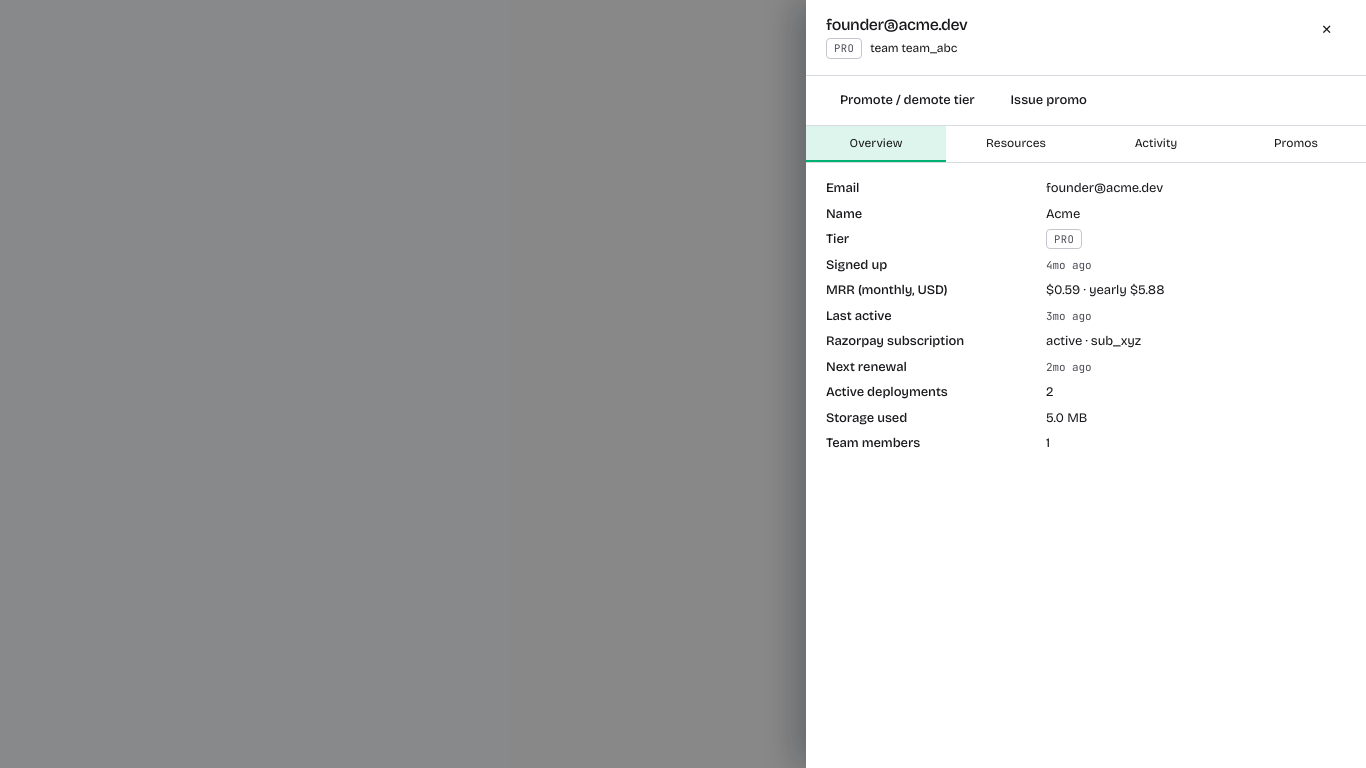
Scenario: CustomerDetailDrawer › switches between tabs
Expected: the element with test id "drawer-overview" is shown, top-left (826, 179), bottom-right (1346, 454)
Click the tab with test id "drawer-tab-resources" at (1016, 144), box top-left (946, 126), bottom-right (1086, 162)
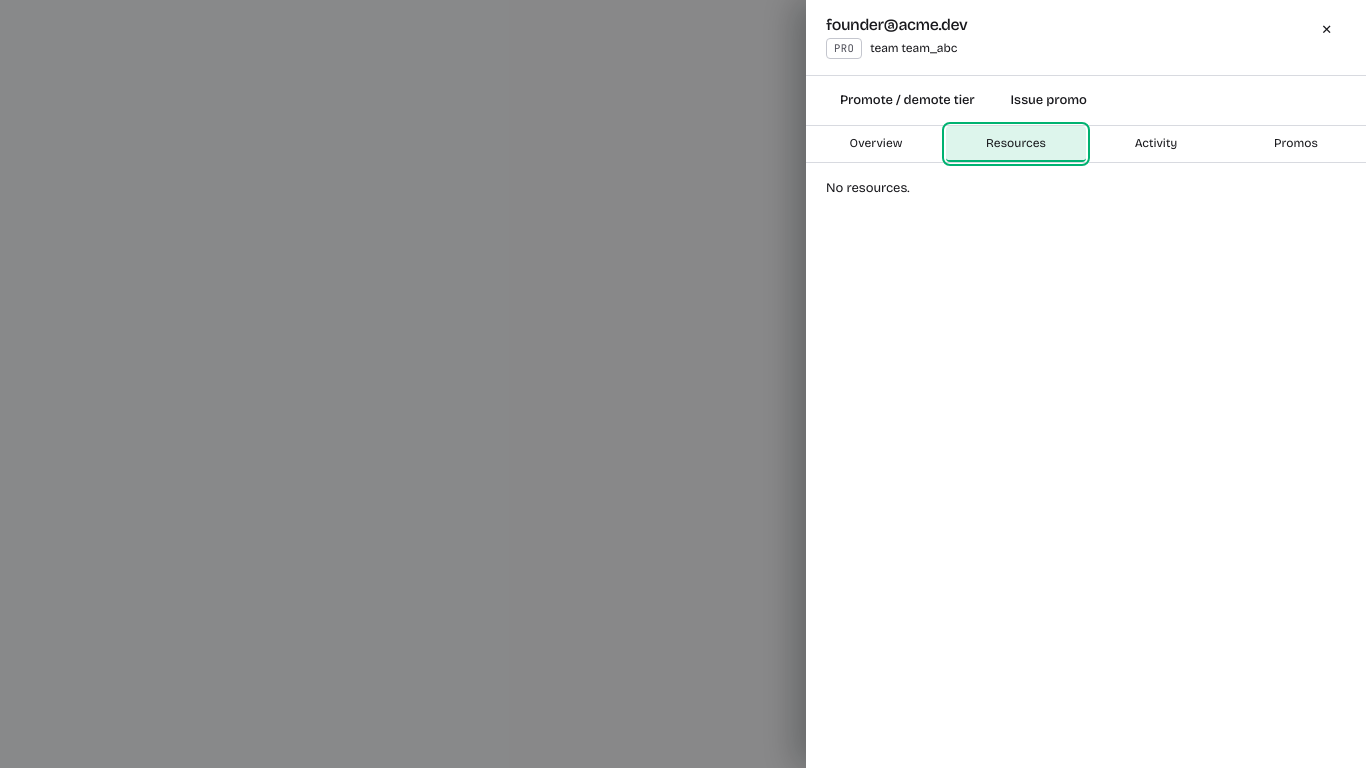
Expected: the text "No resources." is shown, top-left (826, 180), bottom-right (910, 196)
Click the tab with test id "drawer-tab-activity" at (1156, 144), box top-left (1086, 126), bottom-right (1226, 162)
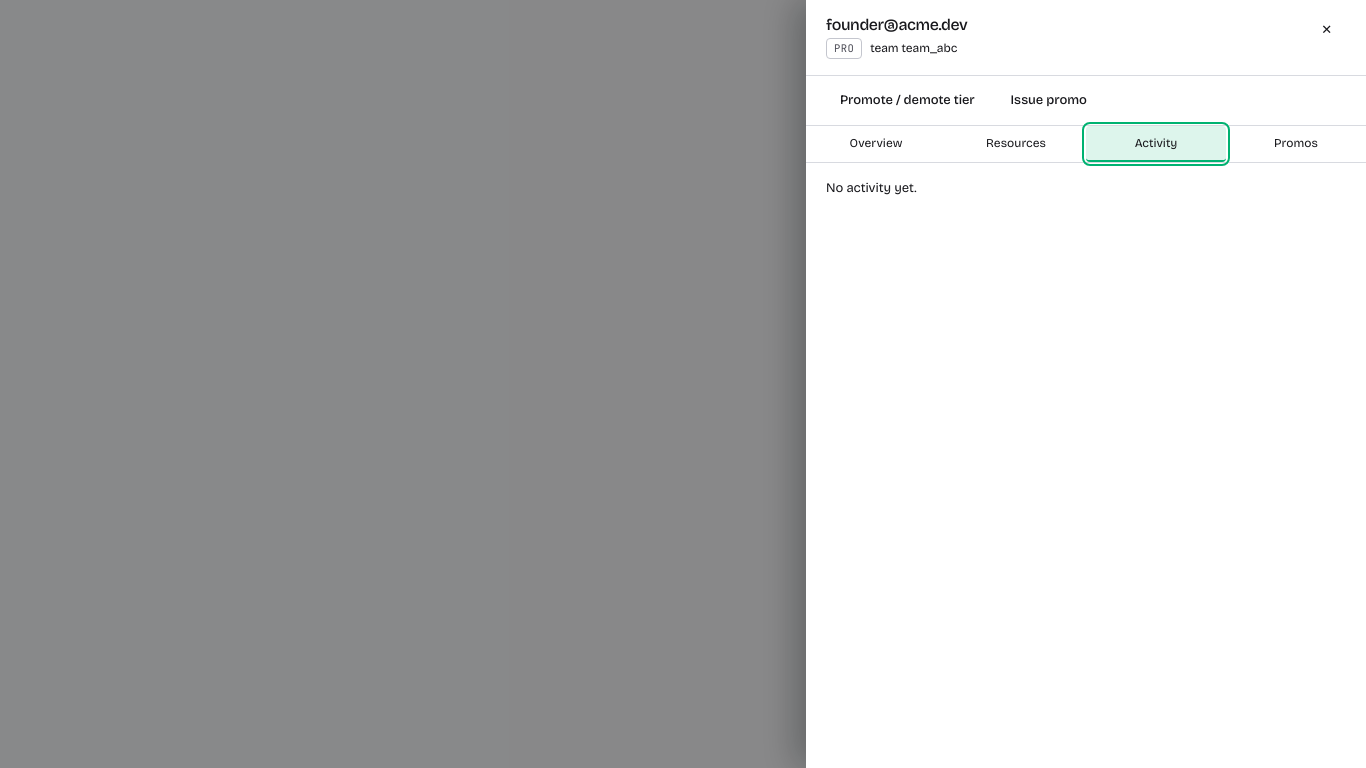
Expected: the text "No activity yet." is shown, top-left (826, 180), bottom-right (916, 196)
Click the tab with test id "drawer-tab-promos" at (1296, 144), box top-left (1226, 126), bottom-right (1365, 162)
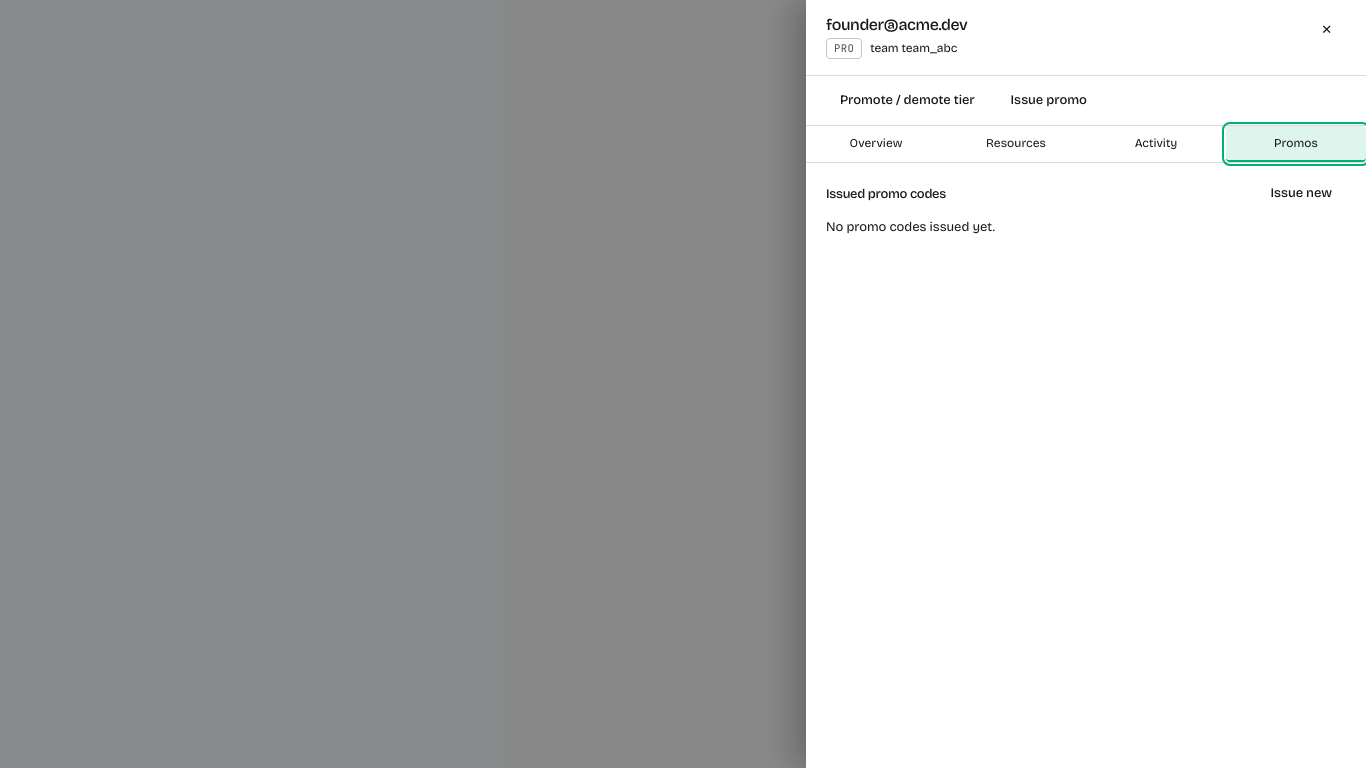
Expected: the text "No promo codes issued yet." is shown, top-left (826, 219), bottom-right (995, 235)
